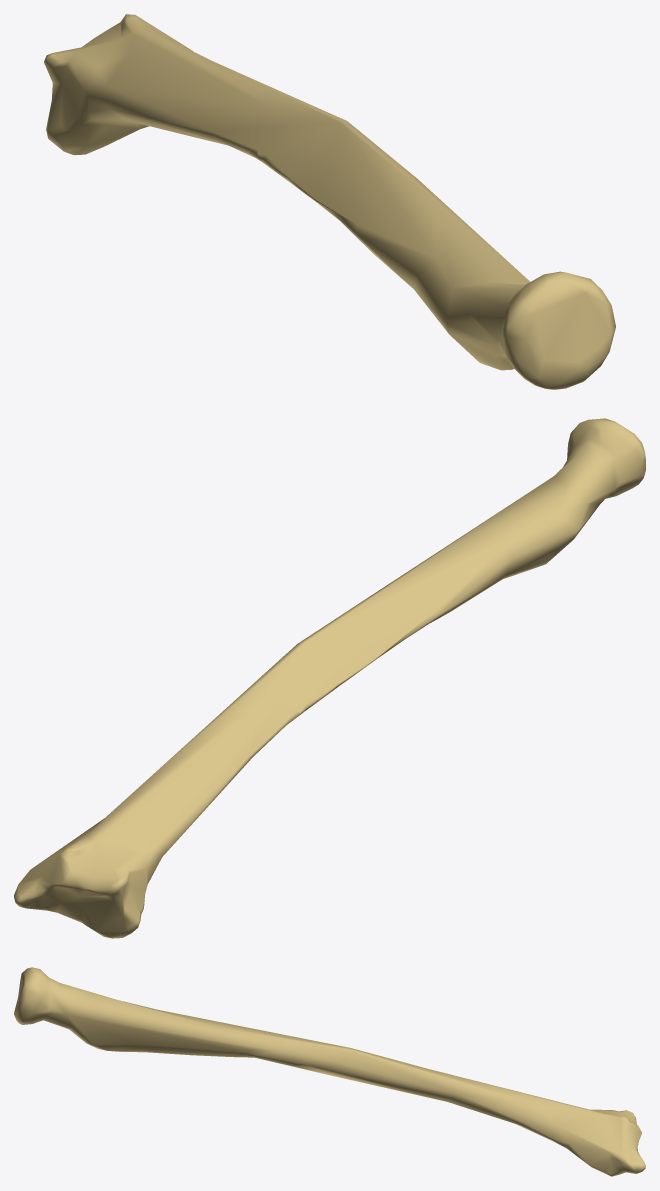
The picture shows the model from 3 angles, top to bottom: view 1: azimuth 30°, elevation 25°; view 2: azimuth 150°, elevation 25°; view 3: azimuth 270°, elevation 25°; orthographic projection. The views are drawn at different scales.
Visible parts, largest first — view 1: 左侧桡骨; view 2: 左侧桡骨; view 3: 左侧桡骨.
Part boxes in pixels (x1,y1,x2,y2): 左侧桡骨: (44, 14, 615, 389); 左侧桡骨: (14, 418, 645, 938); 左侧桡骨: (14, 967, 645, 1176).
Size of the model in its own units: 0.091 by 0.1012 by 0.3492.
